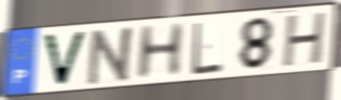8: (236, 15, 277, 72)
H: (133, 21, 187, 83), (280, 10, 329, 70)
L: (190, 21, 224, 77)
N: (85, 24, 139, 88)
V: (40, 30, 90, 89)
